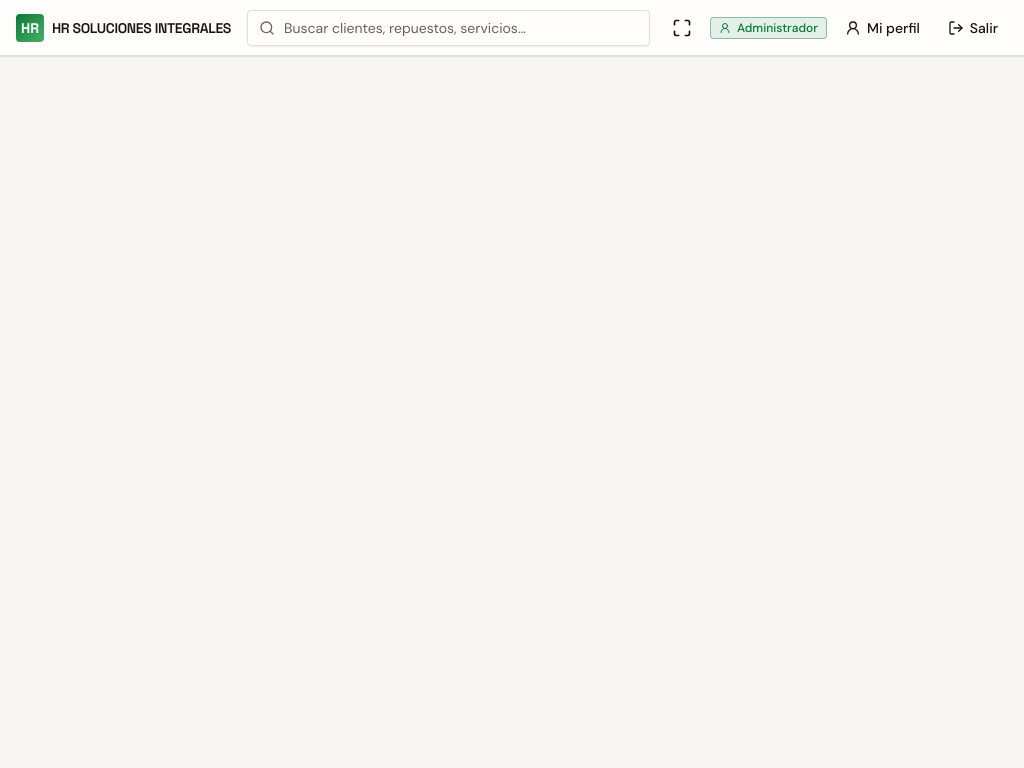
Test: AppHeader › keeps the session open and shows the error when the backup fails
What coordinates should you click on to do the following:
click the button with test id "header.logout_button"
I would click on:
 (973, 28)
Its box is [938,12,1008,44].
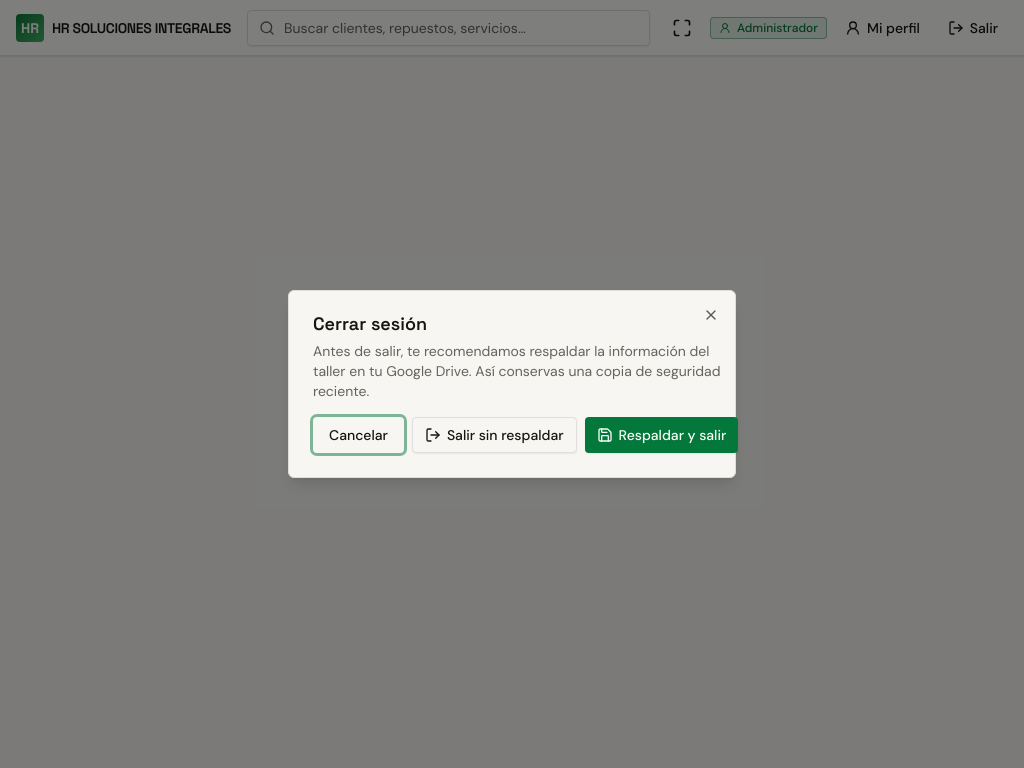
What coordinates should you click on to do the following:
click the button with test id "exit_session.backup_and_exit_button"
I would click on:
 (661, 435)
Its box is [585,417,738,453].
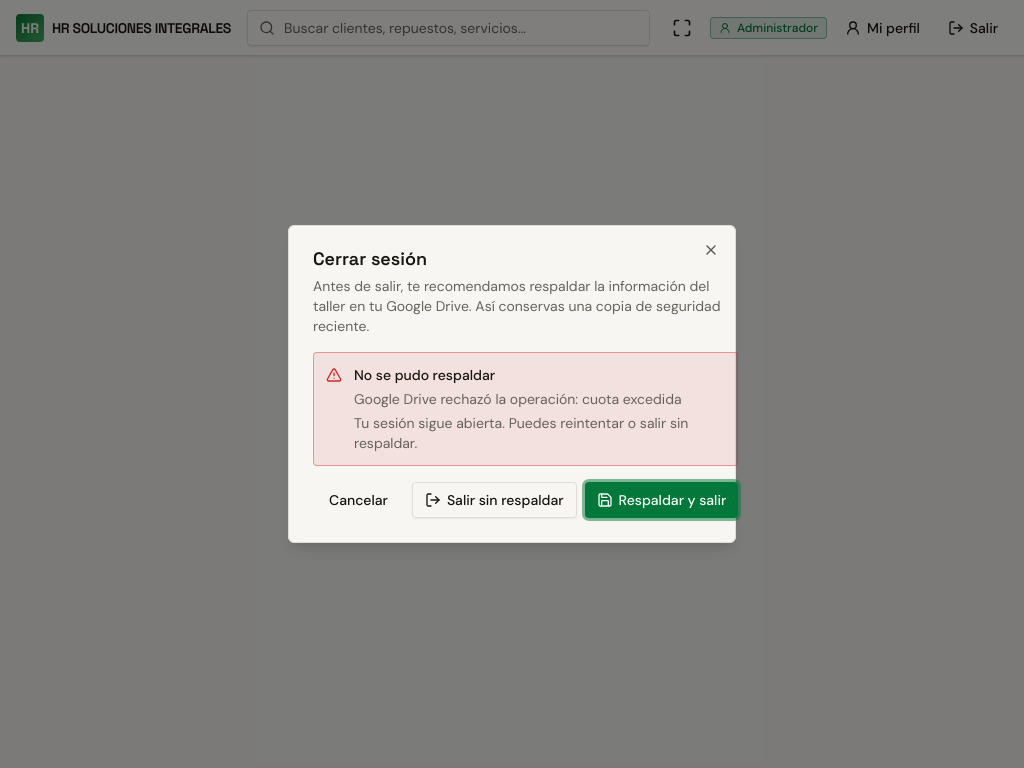
Expected: the message with test id "exit_session.error_state" is shown, [313,352,738,466]
